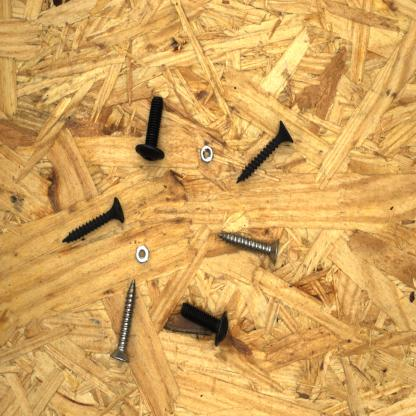screw: (234, 118, 296, 186), (60, 194, 126, 245), (108, 278, 137, 364), (180, 300, 230, 348), (216, 230, 280, 267), (133, 92, 166, 162)
